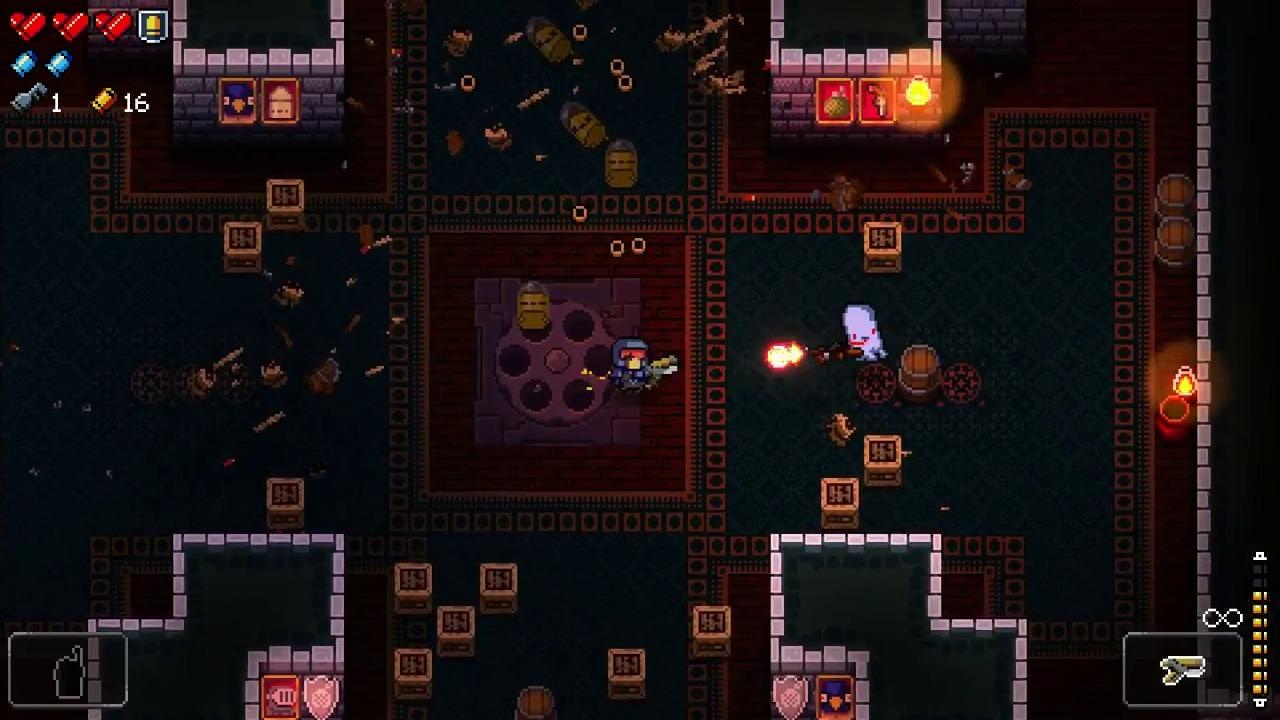bullet: (765, 341, 792, 372)
dead_bullet_kin: (528, 18, 572, 65), (564, 102, 605, 148), (520, 279, 551, 331), (606, 139, 637, 190)
hollowpoint: (844, 303, 890, 362)
player: (611, 341, 650, 394)
teleporter: (472, 278, 643, 449)
